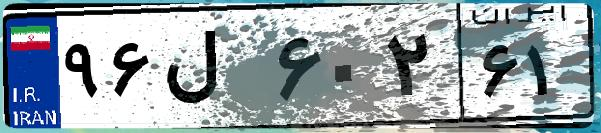0: (330, 28, 385, 110)
1: (525, 38, 570, 115)
2: (385, 28, 445, 110)
6: (270, 28, 330, 110), (475, 38, 525, 113), (110, 28, 158, 98)
9: (57, 26, 110, 100)
ل: (158, 20, 270, 120)
